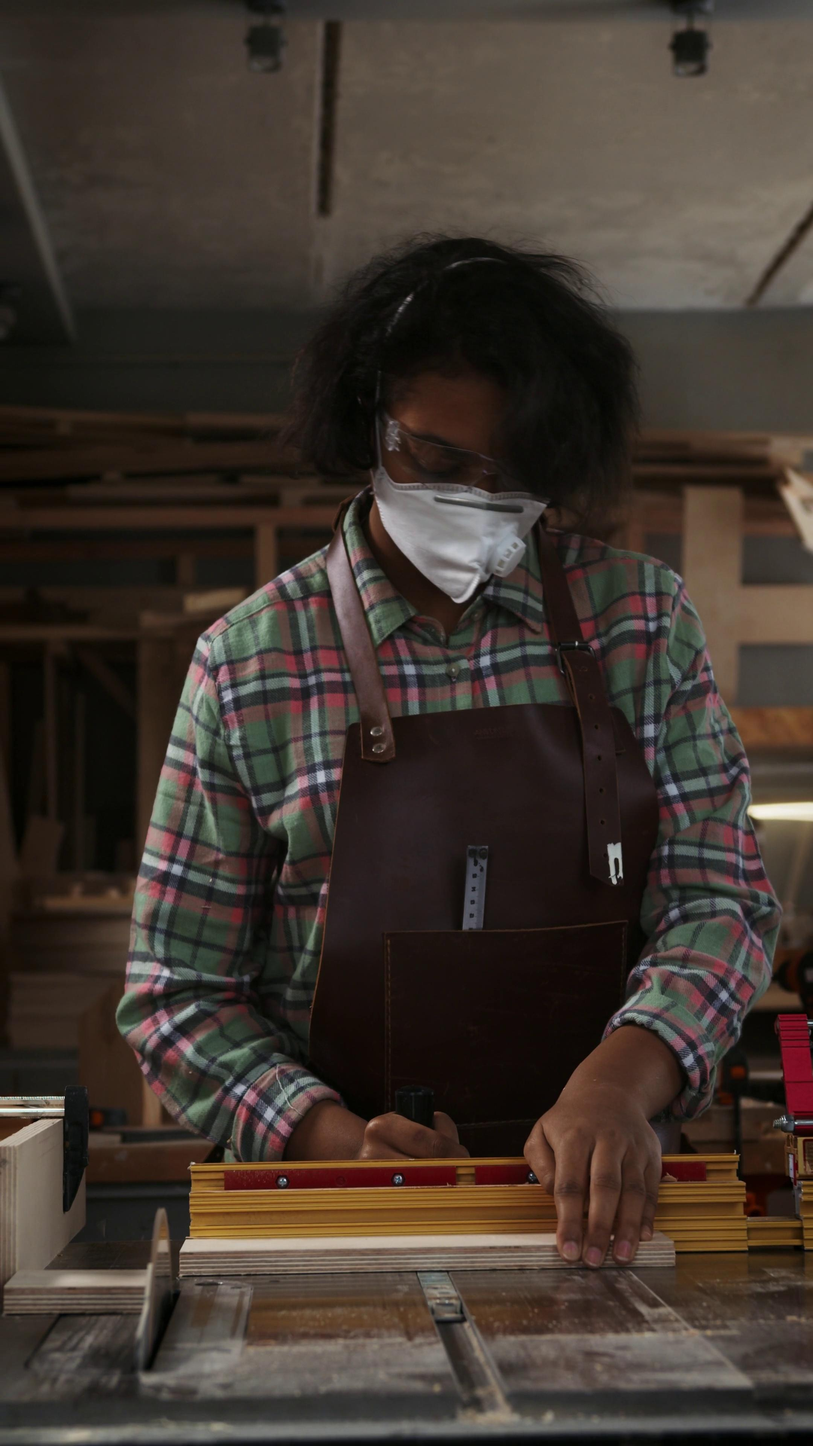mask: (370, 466, 550, 604)
person: (117, 235, 781, 1269)
